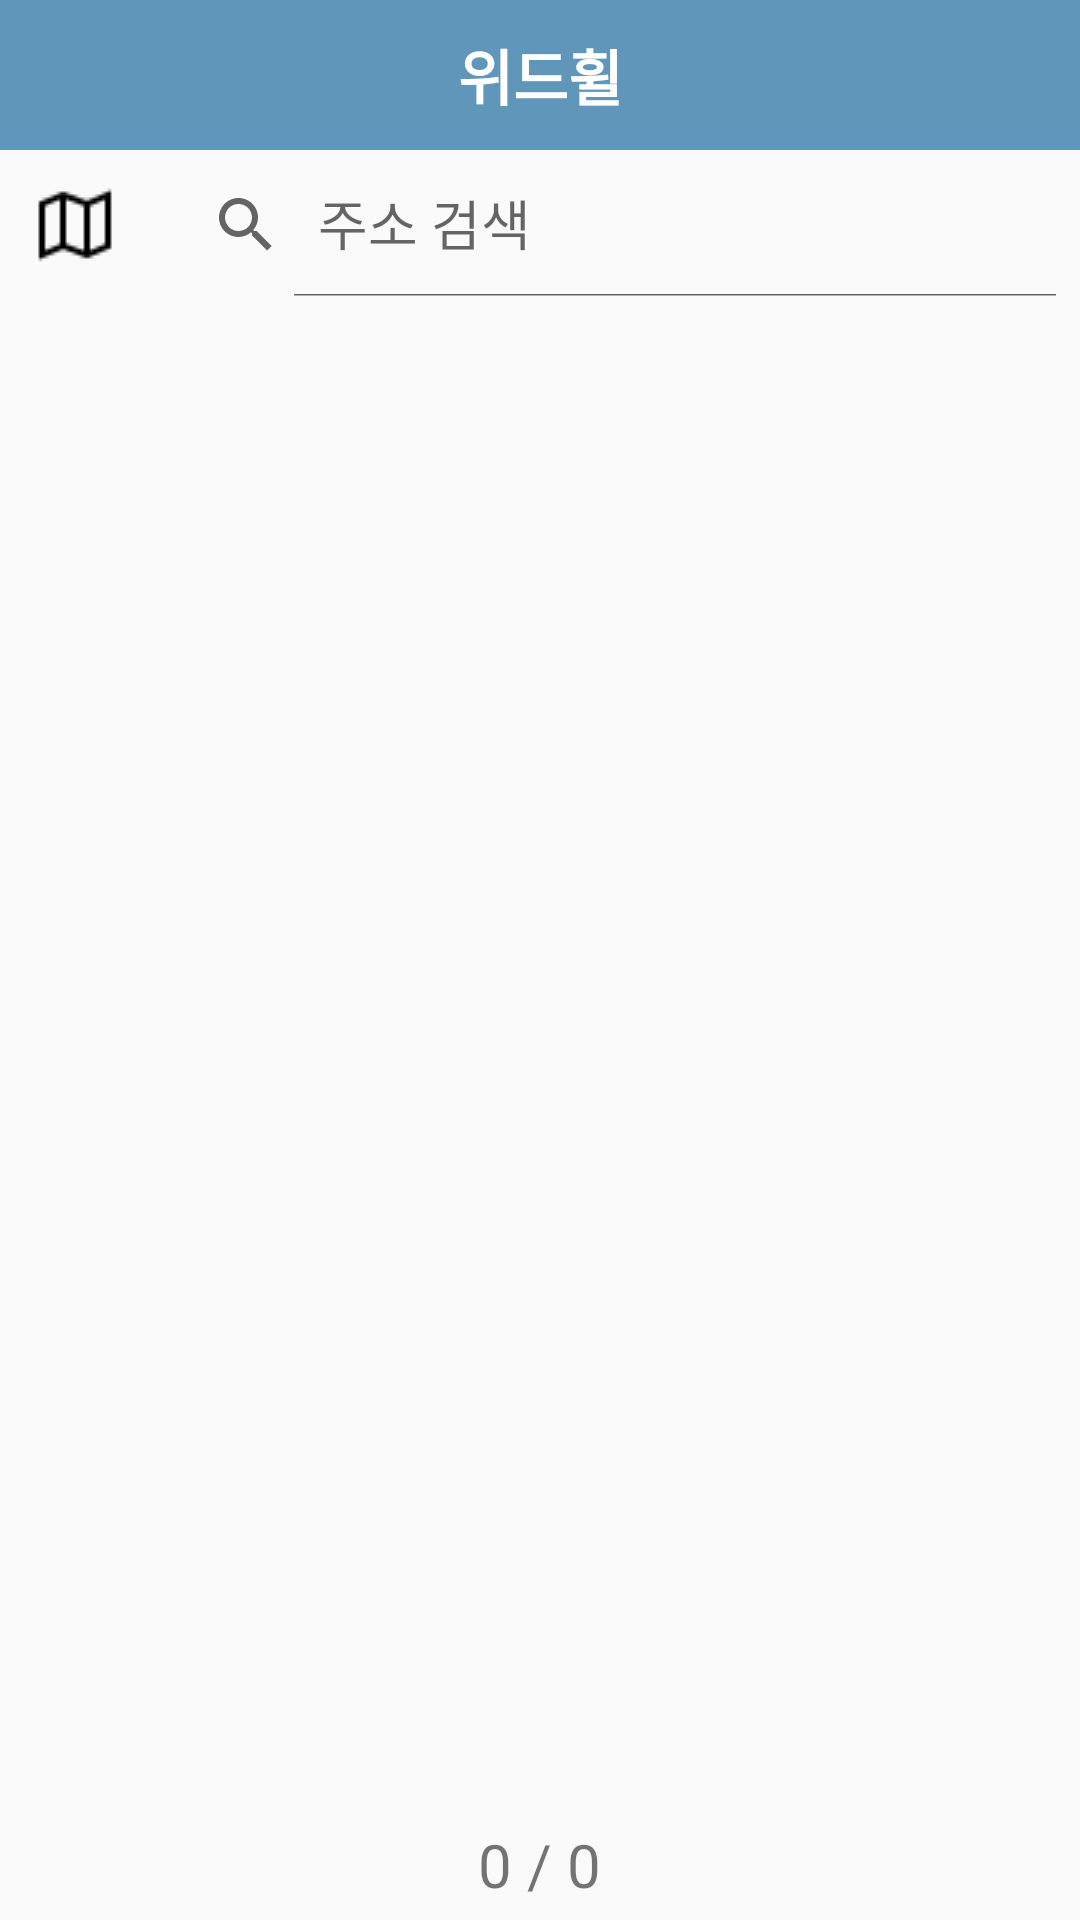

Screen size 1080px x 1920px. Icon name, then its center in pixels as (x=x, y=y):
map: (x=75, y=225)
